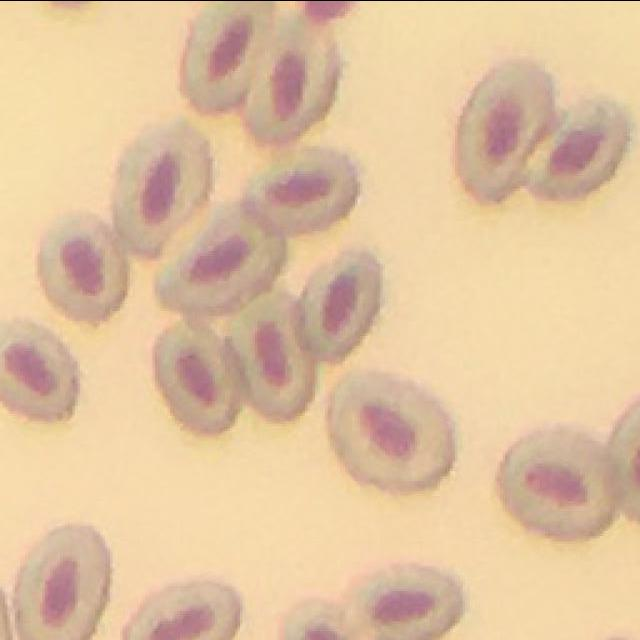RBC: (155, 202, 284, 316), (329, 374, 452, 490), (456, 61, 552, 201), (112, 121, 210, 256), (498, 429, 614, 539), (244, 14, 338, 140), (14, 525, 109, 640), (522, 101, 628, 199), (232, 292, 313, 420), (181, 0, 272, 112), (244, 148, 358, 235), (154, 321, 241, 432), (39, 216, 126, 320), (300, 251, 379, 360), (348, 565, 461, 640), (0, 321, 76, 420), (124, 582, 239, 640), (608, 400, 640, 520)
